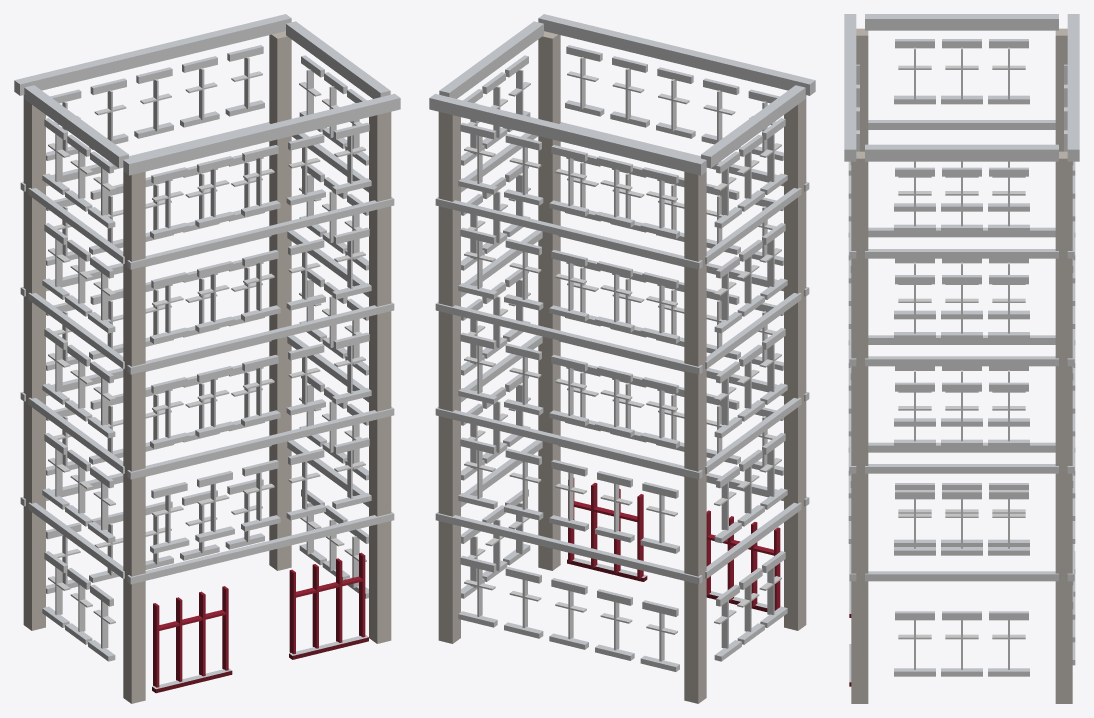
Rendered from Apartment_Cream_Trim.glb.
3 renders of one model, left to right at view 1: azimuth 30°, elevation 25°; view 2: azimuth 150°, elevation 25°; view 3: azimuth 270°, elevation 25°, orthographic. The views are drawn at different scales.
Parts seen in each view (by area): view 1: Apartment_Cream_Trim; view 2: Apartment_Cream_Trim; view 3: Apartment_Cream_Trim.
Boxes of the visible parts, x1,y1,x2,y2 form: Apartment_Cream_Trim: [14, 14, 400, 703]; Apartment_Cream_Trim: [429, 14, 815, 703]; Apartment_Cream_Trim: [844, 14, 1079, 703].
Size of the model in its own units: 29.8 by 57 by 21.8.
